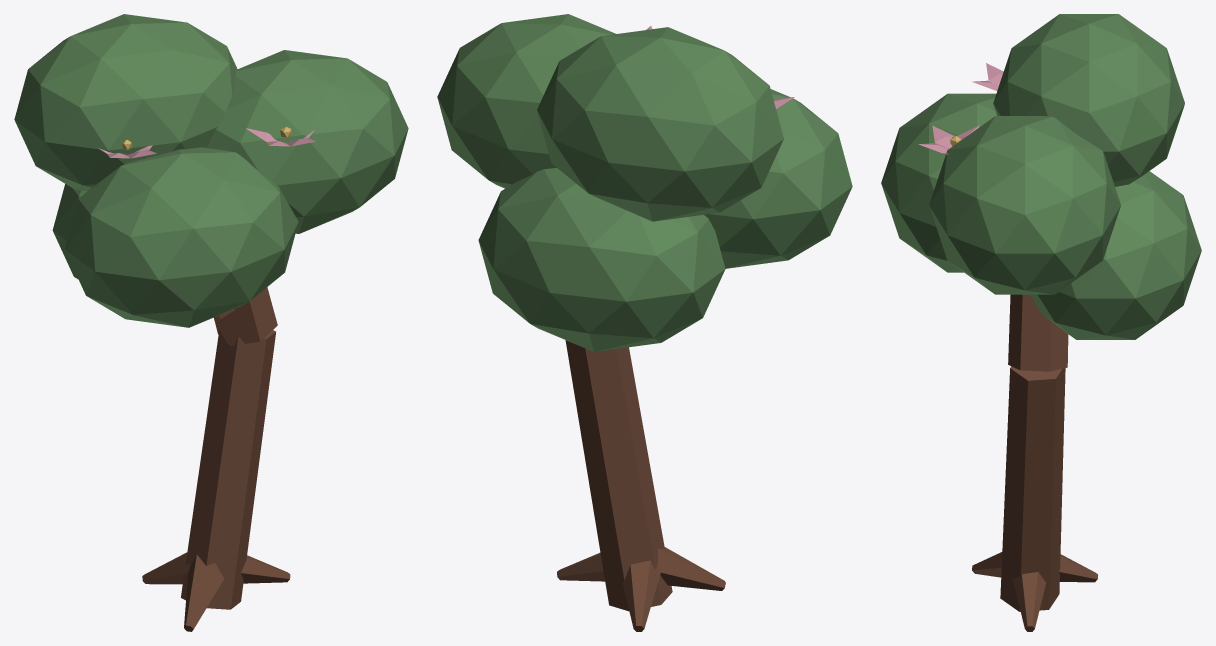
File: map-boundaries-v5__village_05.glb
The picture shows the model from 3 angles, left to right: view 1: azimuth 30°, elevation 25°; view 2: azimuth 150°, elevation 25°; view 3: azimuth 270°, elevation 25°; orthographic projection. The views are drawn at different scales.
Parts seen in each view (by area): view 1: village_05; view 2: village_05; view 3: village_05.
Boxes of the visible parts, <box> form: village_05: <box>14,14,408,631</box>; village_05: <box>437,14,852,631</box>; village_05: <box>881,14,1201,631</box>.
Size of the model in its own units: 1.9 by 3.05 by 1.6.
